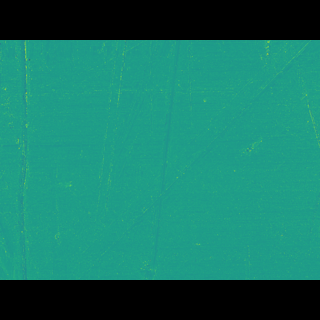Loch: (94, 69, 318, 231), (137, 69, 191, 250), (90, 68, 129, 207), (9, 70, 37, 250)
